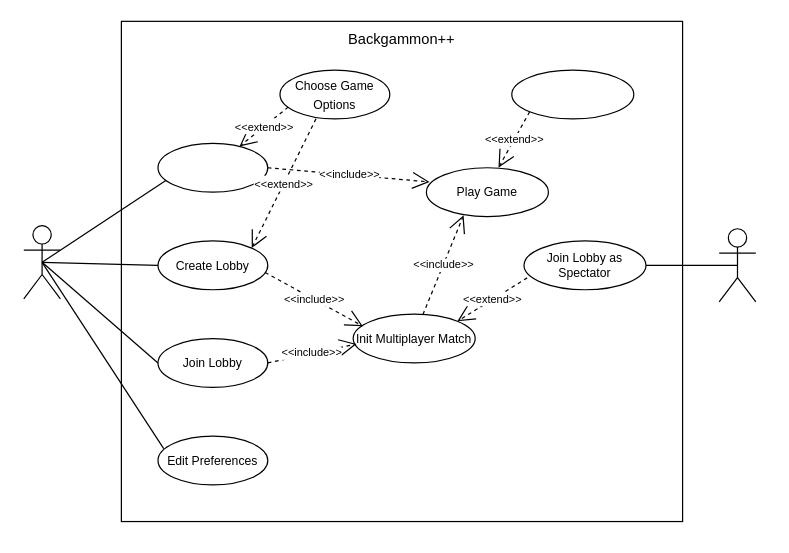
Some shapes in this 789 by 553 pixel diagram are drawn without their labels. The shapes that lost their labels are listed below. From the top down, each one's box as (x1, y1, x2, y2) in pixels, then its label:
(511, 69, 634, 119): Save Game Replay
(157, 142, 268, 192): Init Singleplayer Match
(23, 224, 60, 299): Player
(718, 228, 756, 302): Spectator
